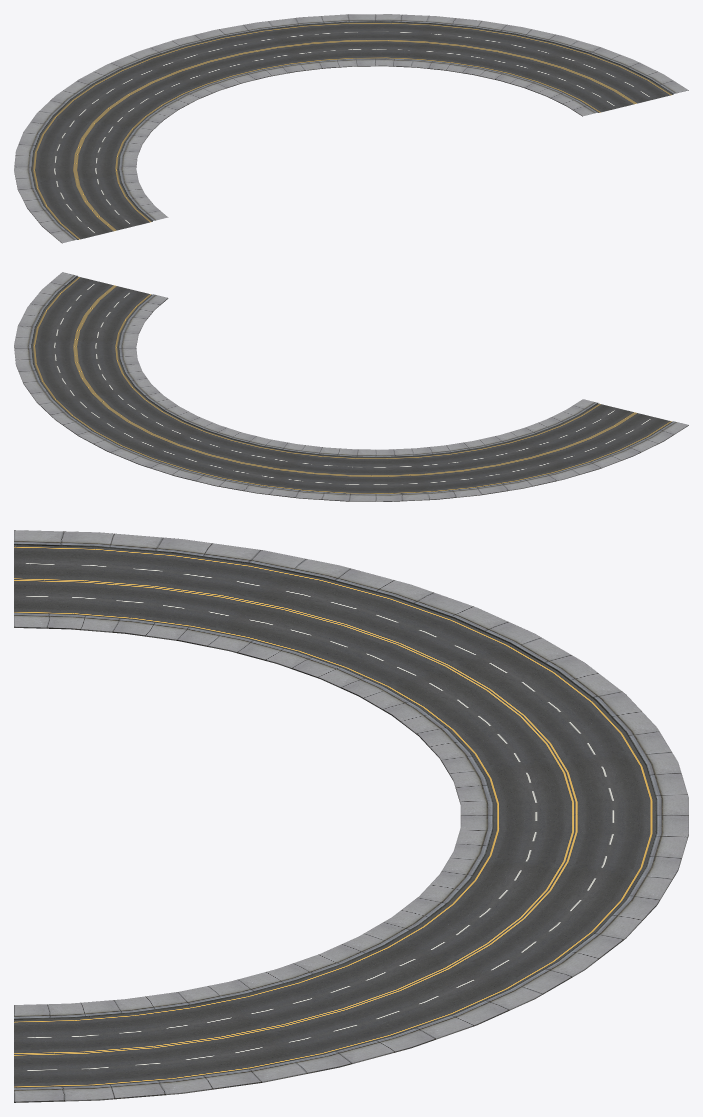
The picture shows the model from 3 angles, top to bottom: view 1: azimuth 30°, elevation 25°; view 2: azimuth 150°, elevation 25°; view 3: azimuth 270°, elevation 25°; orthographic projection. The views are drawn at different scales.
Parts seen in each view (by area): view 1: Road_2X_HalfCircle; view 2: Road_2X_HalfCircle; view 3: Road_2X_HalfCircle.
Boxes of the visible parts, x1,y1,x2,y2 form: Road_2X_HalfCircle: (14,14,688,243); Road_2X_HalfCircle: (14,272,688,501); Road_2X_HalfCircle: (14,530,688,1102).
Bounding box in the file's own units: 224 × 0.2045 × 112.
Materials: 1 (1 with a texture image).
